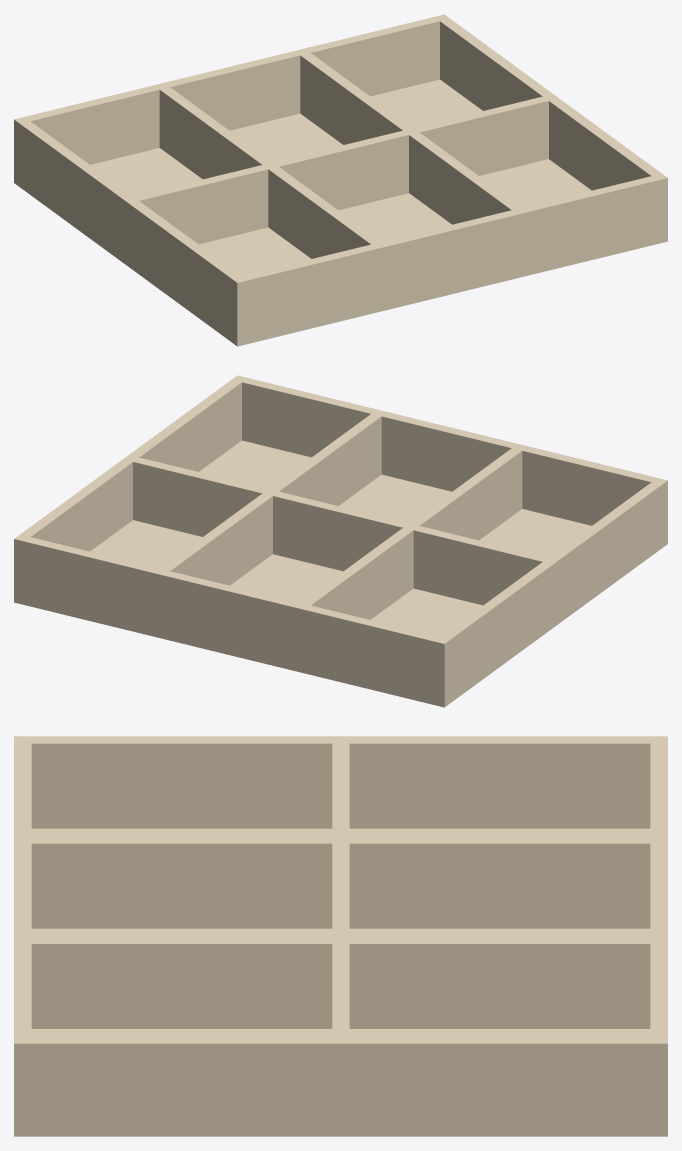
Rendered from natural.glb.
3 renders of one model, top to bottom at view 1: azimuth 30°, elevation 25°; view 2: azimuth 150°, elevation 25°; view 3: azimuth 270°, elevation 25°, orthographic. The views are drawn at different scales.
Parts seen in each view (by area): view 1: front_back.2, bottom.1, front_back.1, cross_divider.1, side.1, long_divider.1, long_divider.2, side.2; view 2: front_back.1, bottom.1, front_back.2, cross_divider.1, side.1, long_divider.2, long_divider.1, side.2; view 3: side.2, side.1, long_divider.1, long_divider.2, bottom.1, front_back.1, front_back.2, cross_divider.1.
Boxes of the visible parts, left/top/right/bottom form: front_back.2: left=231, top=173, right=667, bottom=340; bottom.1: left=14, top=79, right=667, bottom=346; front_back.1: left=14, top=14, right=449, bottom=181; cross_divider.1: left=133, top=96, right=548, bottom=244; side.1: left=20, top=121, right=241, bottom=336; long_divider.1: left=159, top=87, right=380, bottom=258; long_divider.2: left=300, top=53, right=521, bottom=224; side.2: left=440, top=19, right=661, bottom=190; front_back.1: left=14, top=534, right=450, bottom=701; bottom.1: left=14, top=440, right=667, bottom=707; front_back.2: left=232, top=375, right=667, bottom=542; cross_divider.1: left=133, top=457, right=548, bottom=605; side.1: left=440, top=482, right=661, bottom=697; long_divider.2: left=160, top=414, right=381, bottom=585; long_divider.1: left=301, top=448, right=522, bottom=619; side.2: left=20, top=380, right=241, bottom=551; side.2: left=31, top=1036, right=650, bottom=1128; side.1: left=31, top=736, right=650, bottom=828; long_divider.1: left=31, top=836, right=650, bottom=928; long_divider.2: left=31, top=936, right=650, bottom=1028; bottom.1: left=14, top=828, right=667, bottom=1136; front_back.1: left=650, top=736, right=667, bottom=1128; front_back.2: left=14, top=736, right=31, bottom=1128; cross_divider.1: left=332, top=743, right=349, bottom=1036.
Size of the model in its own units: 0.496 by 0.07 by 0.446.
